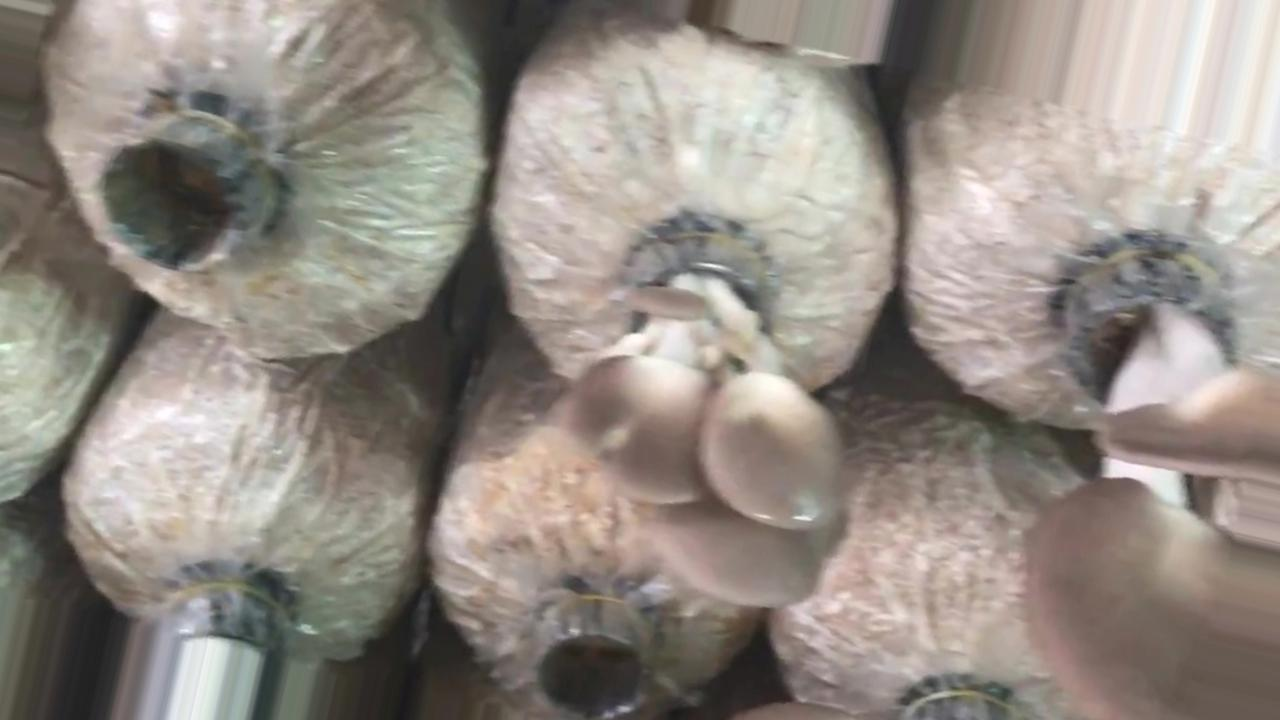nam: (1011, 239, 1280, 720), (559, 228, 860, 620)
